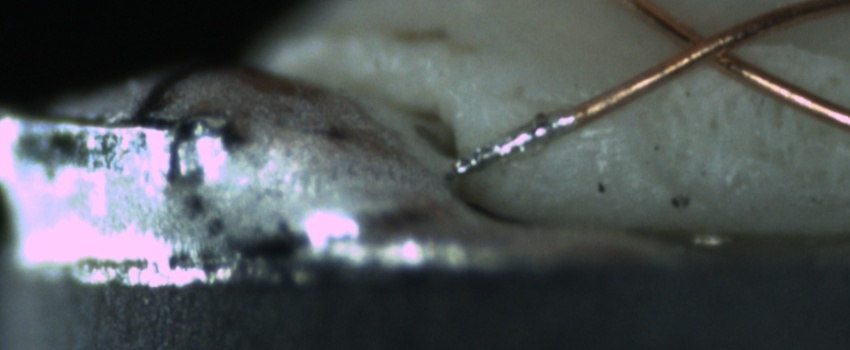CL: (657, 14, 758, 78)
TS: (453, 109, 574, 177)
TTCW: (451, 79, 631, 178)
